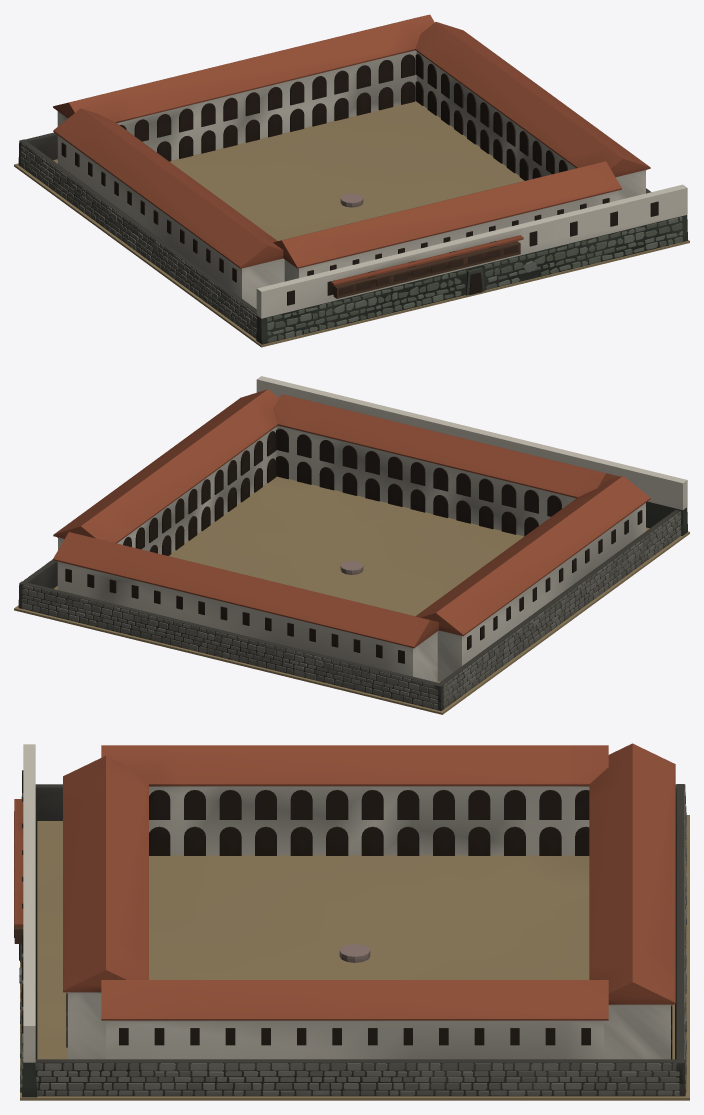
Rendered from hatun-rumiyoc-1650.glb.
3 views of the same model, one above another, from view 1: azimuth 30°, elevation 25°; view 2: azimuth 150°, elevation 25°; view 3: azimuth 270°, elevation 25° (orthographic). The views are drawn at different scales.
Visible parts, largest first — view 1: p1_walls, p2_roofs, p0_ground; view 2: p1_walls, p2_roofs, p0_ground; view 3: p1_walls, p2_roofs, p0_ground.
Boxes of the visible parts, bbox=[...] form: p1_walls: bbox=[18, 50, 687, 344]; p2_roofs: bbox=[53, 14, 650, 285]; p0_ground: bbox=[14, 101, 689, 347]; p1_walls: bbox=[18, 376, 687, 710]; p2_roofs: bbox=[53, 389, 650, 648]; p0_ground: bbox=[14, 476, 689, 714]; p1_walls: bbox=[14, 744, 686, 1097]; p2_roofs: bbox=[14, 743, 675, 1020]; p0_ground: bbox=[20, 815, 689, 1100].
Size of the model in its own units: 70 by 11.1 by 70.62.
